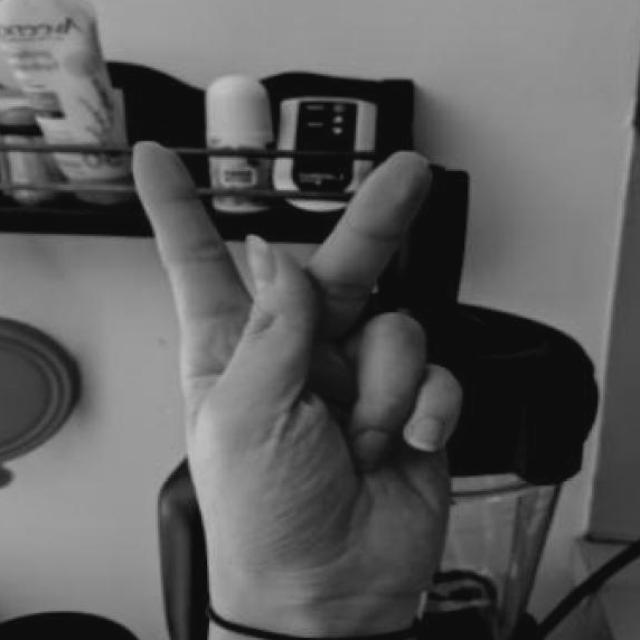K: (115, 134, 478, 640)
